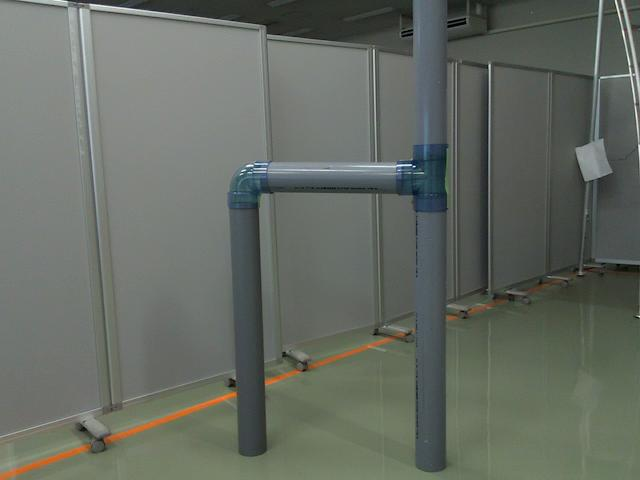bent: (223, 162, 276, 213)
junction: (397, 144, 449, 216)
